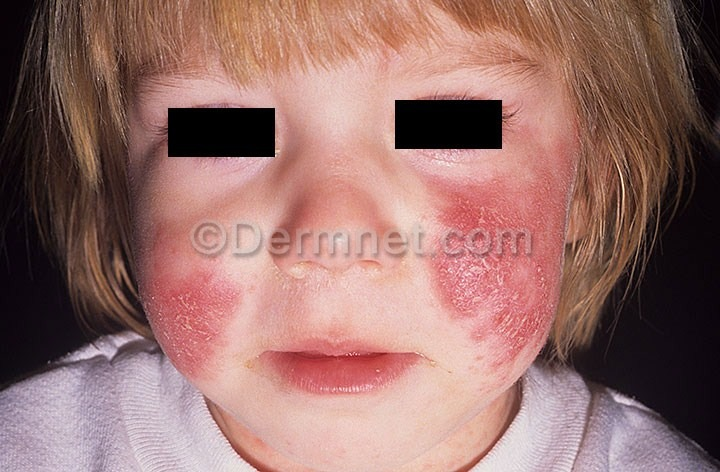Eczema: (419, 160, 564, 388), (137, 210, 251, 381)
